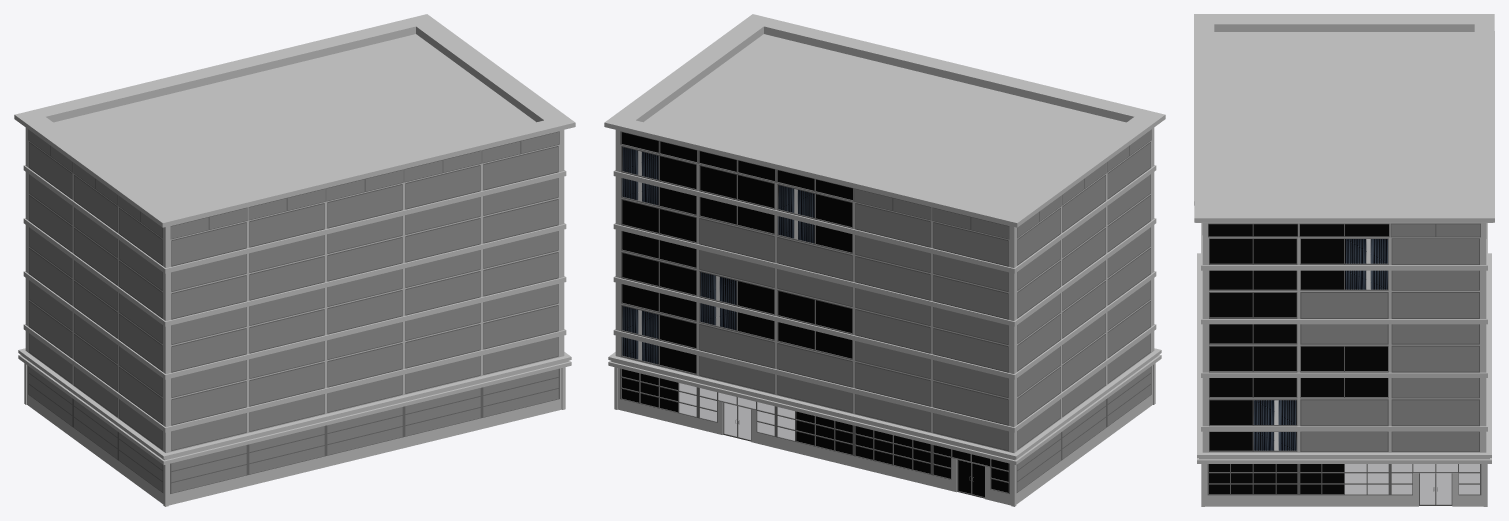
Rendered from Building05_B.fbx.
The picture shows the model from 3 angles, left to right: view 1: azimuth 30°, elevation 25°; view 2: azimuth 150°, elevation 25°; view 3: azimuth 270°, elevation 25°; orthographic projection.
Visible parts, largest first — view 1: Building05_B; view 2: Building05_B; view 3: Building05_B.
Boxes of the visible parts, x1=… form: Building05_B: x1=14, y1=14, x2=575, y2=506; Building05_B: x1=604, y1=14, x2=1165, y2=506; Building05_B: x1=1194, y1=14, x2=1494, y2=506.
Size of the model in its own units: 3260 by 2172 by 2029.
